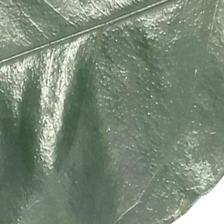healthy: (3, 1, 221, 224)
